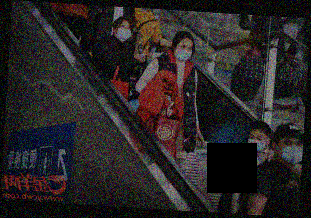with_mask: (278, 139, 302, 166), (246, 134, 267, 153), (115, 22, 132, 43), (175, 44, 194, 61)
